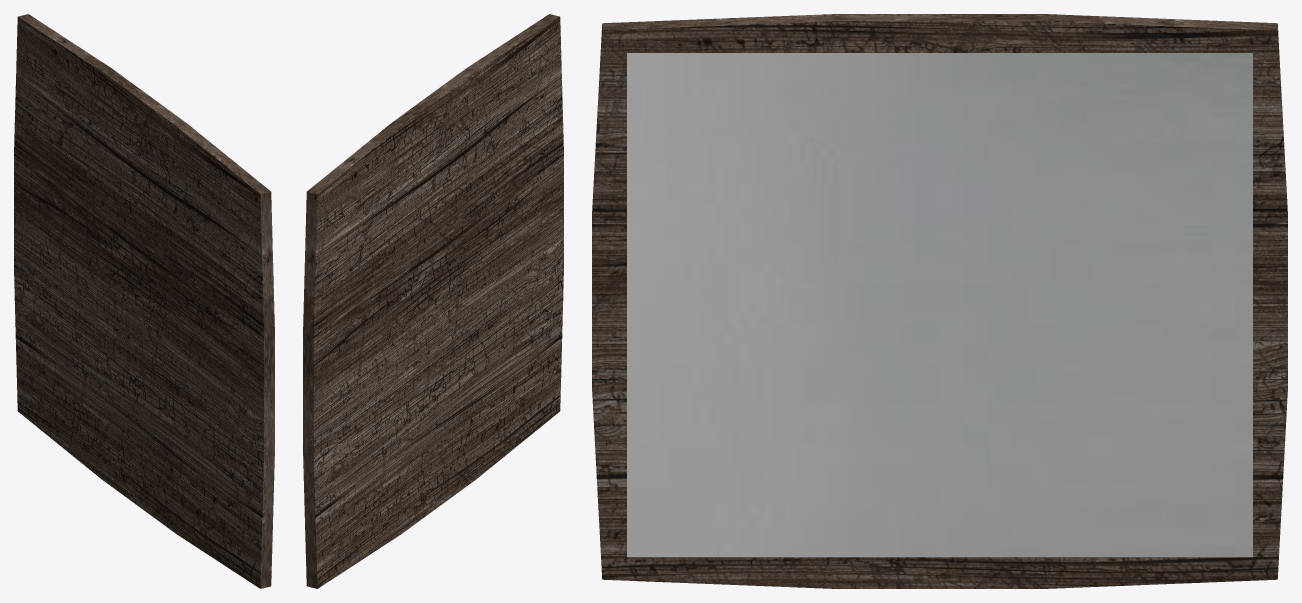
File: Mirror001.FBX
The picture shows the model from 3 angles, left to right: view 1: azimuth 30°, elevation 25°; view 2: azimuth 150°, elevation 25°; view 3: azimuth 270°, elevation 25°; orthographic projection. The views are drawn at different scales.
Visible parts, largest first — view 1: Mirror001; view 2: Mirror001; view 3: Mirror001.
Boxes of the visible parts, x1,y1,x2,y2 form: Mirror001: (14,14,274,588); Mirror001: (303,14,563,588); Mirror001: (592,14,1287,588).
Bounding box in the file's own units: 5 × 180 × 200.
